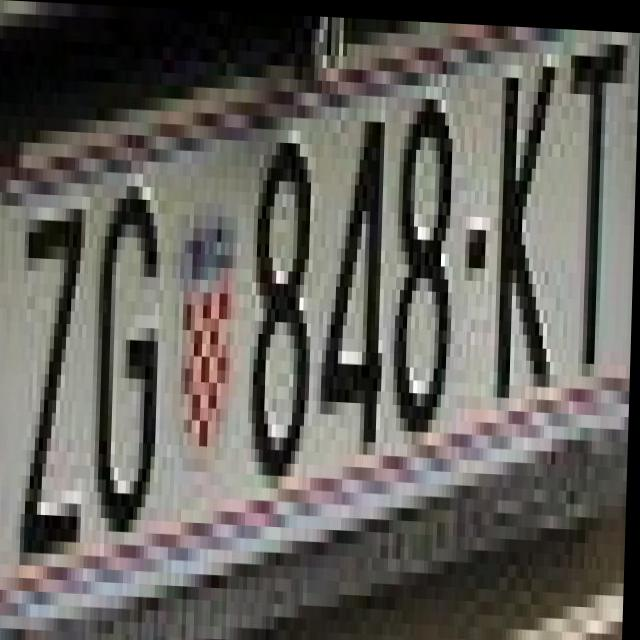4: (314, 90, 394, 452)
8: (394, 106, 466, 442), (253, 139, 317, 474)
G: (91, 183, 168, 545)
K: (487, 58, 567, 407)
T: (560, 36, 632, 371)
Z: (7, 193, 100, 567)
